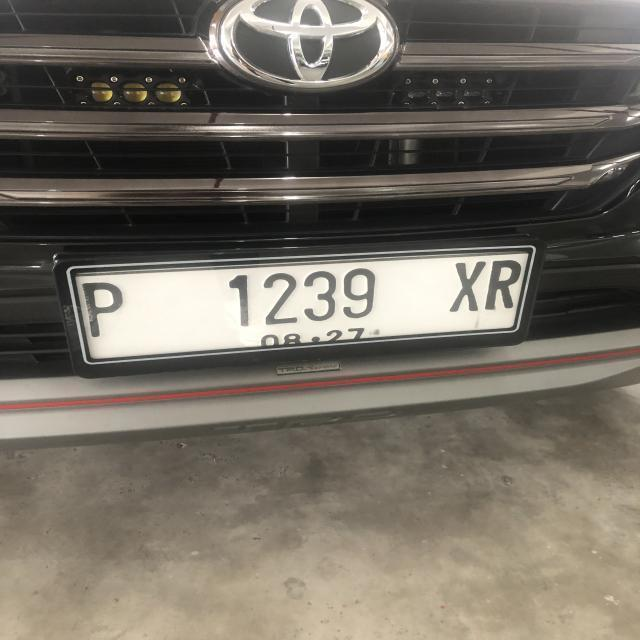1: (226, 274, 257, 328)
2: (262, 272, 303, 328)
3: (303, 270, 342, 324)
9: (341, 266, 382, 320)
P: (80, 278, 128, 340)
R: (486, 258, 522, 310)
X: (449, 260, 484, 314)
